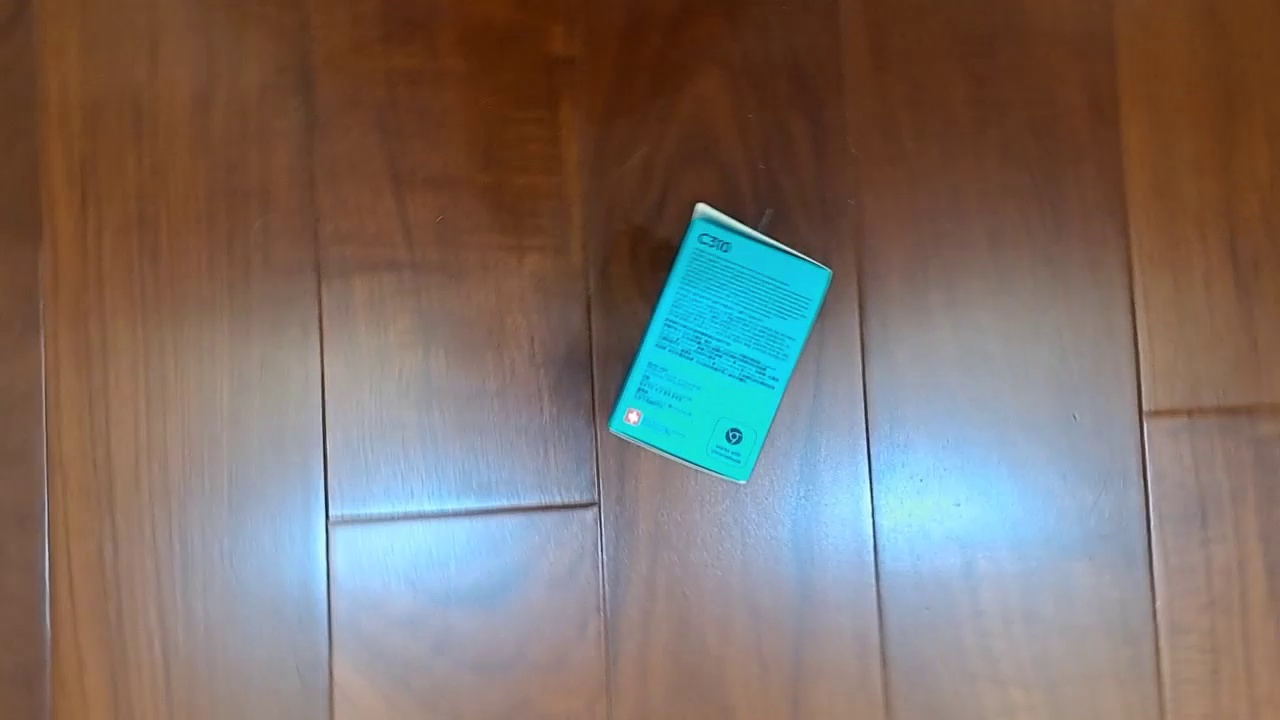webcam: (605, 200, 834, 484)
